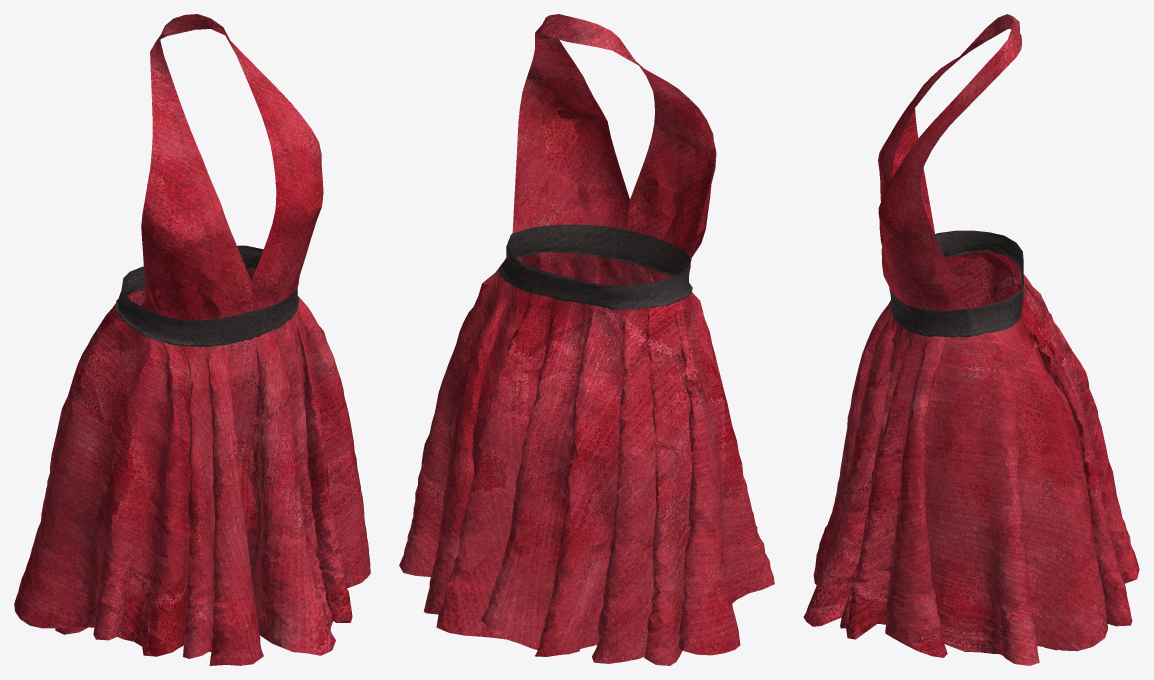
The model's file is elvs-halter-dress-mini.glb.
The picture shows the model from 3 angles, left to right: view 1: azimuth 30°, elevation 25°; view 2: azimuth 150°, elevation 25°; view 3: azimuth 270°, elevation 25°; orthographic projection. The views are drawn at different scales.
Parts seen in each view (by area): view 1: halter dress mini; view 2: halter dress mini; view 3: halter dress mini.
Boxes of the visible parts, x1,y1,x2,y2 form: halter dress mini: (14,14,370,665); halter dress mini: (399,14,774,665); halter dress mini: (803,14,1139,665).
Size of the model in its own units: 50.98 by 89.56 by 46.03.
1 material, 1 textured.
